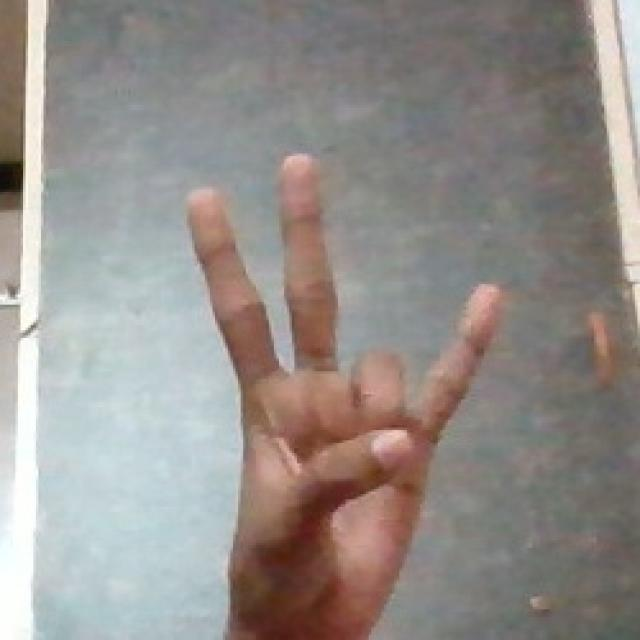Numeric-7: (177, 138, 511, 636)
